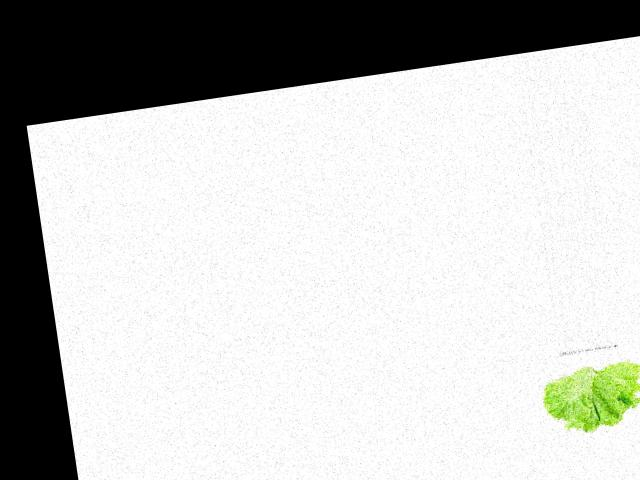lettuce: (535, 345, 640, 439)
